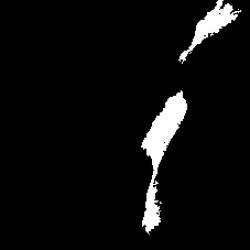crack: (141, 88, 188, 234), (180, 3, 240, 62)
